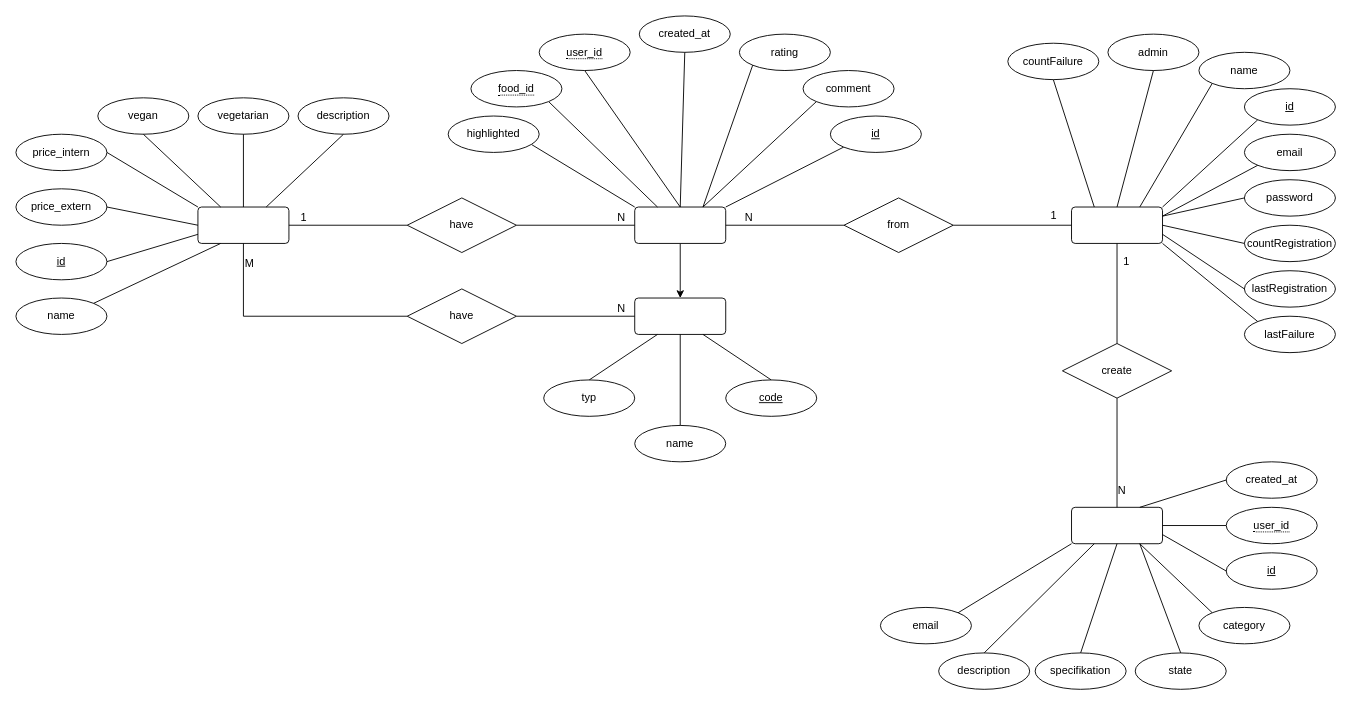
The diagram is 1351 pixels wide and 705 high, and some of its shapes have lost their labels. Here are the shapes that lost their labels. From the top down, the box of each, then its label:
(197, 206, 289, 243): foods
(634, 206, 726, 243): ratings
(1071, 206, 1163, 243): users
(634, 297, 726, 334): allergens
(1071, 506, 1163, 544): tickets
